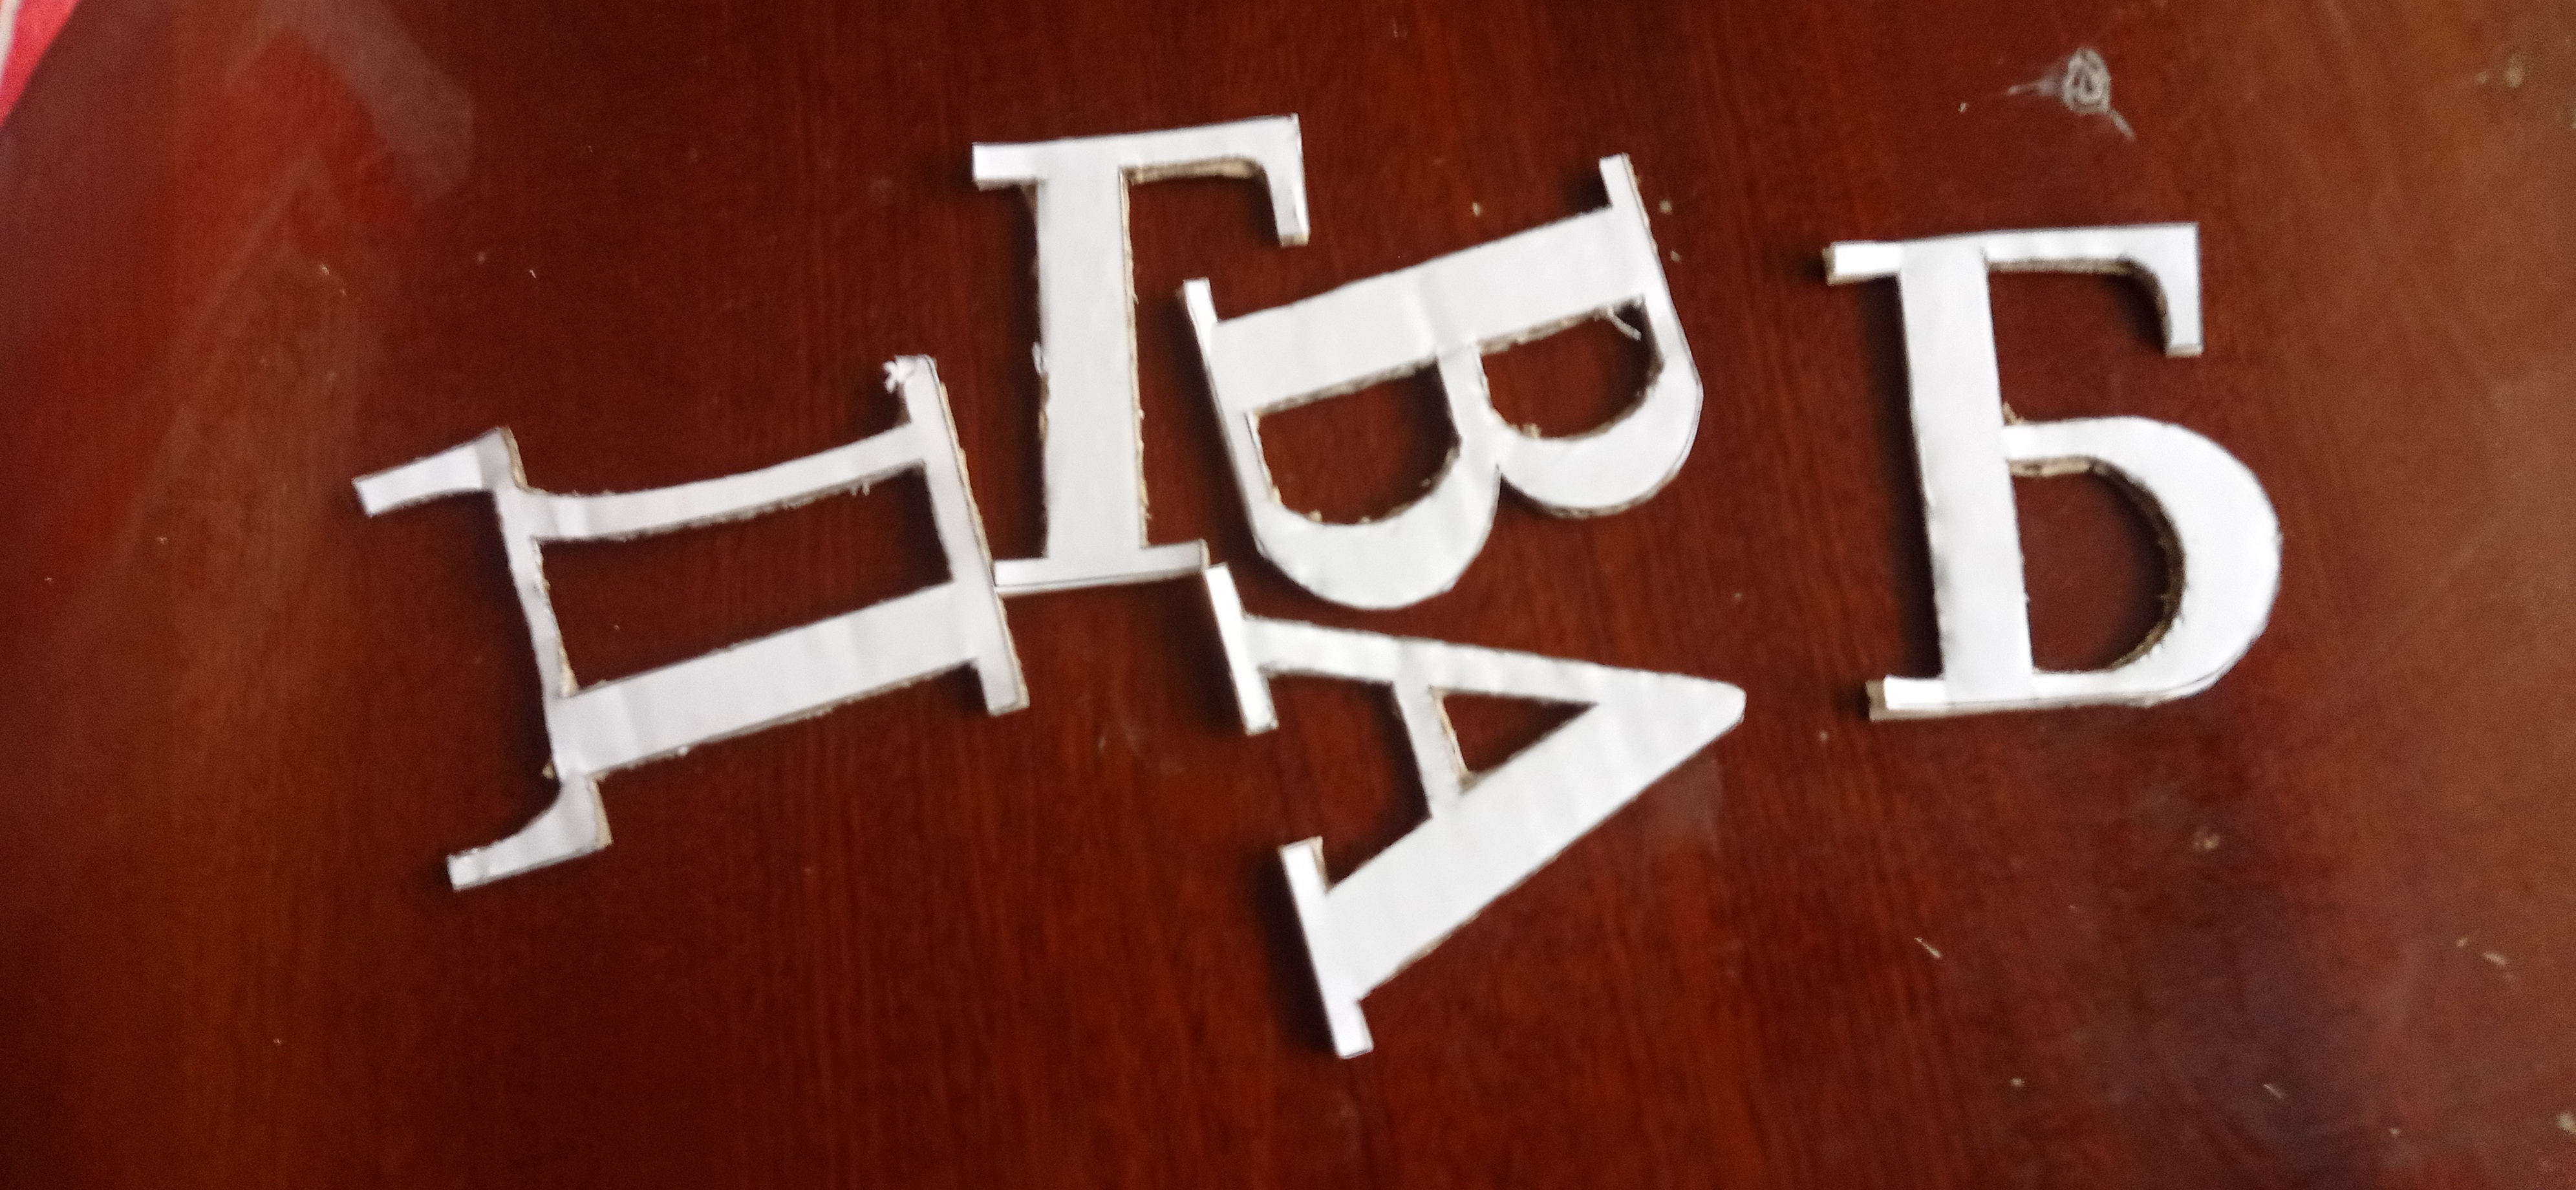a: (1201, 562, 1751, 1067)
b: (1824, 220, 2285, 713)
d: (348, 352, 1032, 894)
g: (976, 110, 1313, 598)
v: (1178, 151, 1704, 613)
